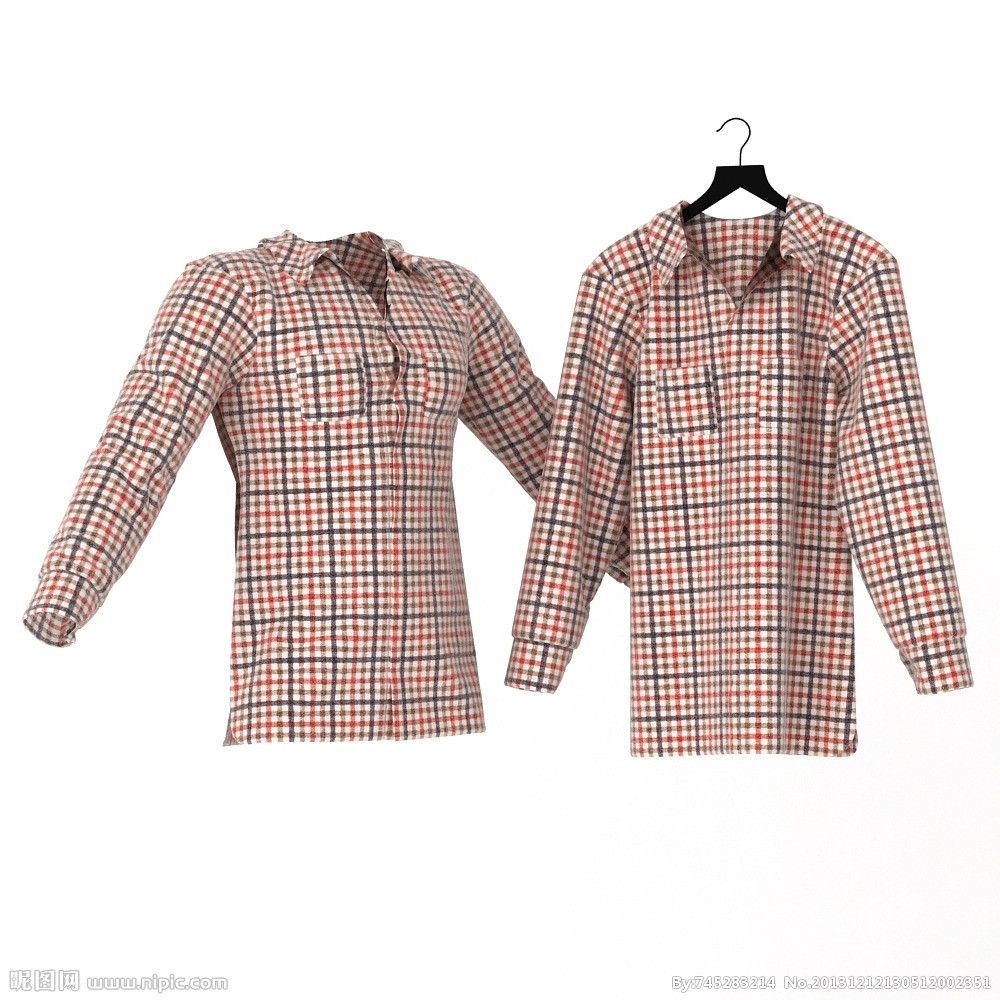flexible: (27, 223, 557, 740), (510, 208, 985, 758)
